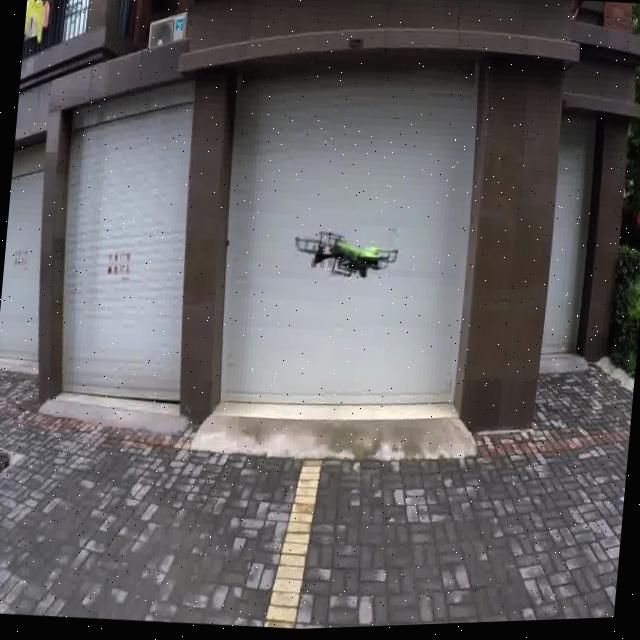drone: (296, 227, 404, 283)
